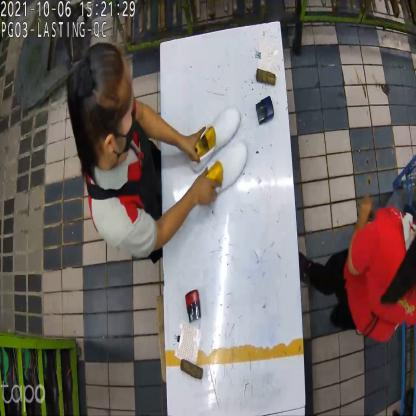shoes: (186, 105, 250, 198)
stamp: (184, 291, 204, 326), (256, 95, 274, 128)
